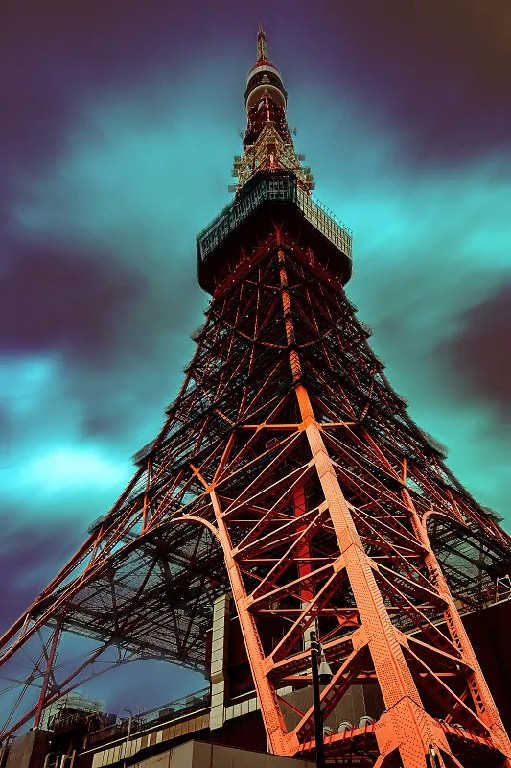Tokyo: (1, 21, 508, 766)
